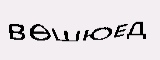В: (5, 21, 27, 41)
Д: (128, 18, 147, 40)
Е: (113, 20, 127, 39)
Ш: (51, 25, 82, 43)
Ю: (81, 24, 112, 44)
Ө: (29, 20, 51, 42)
